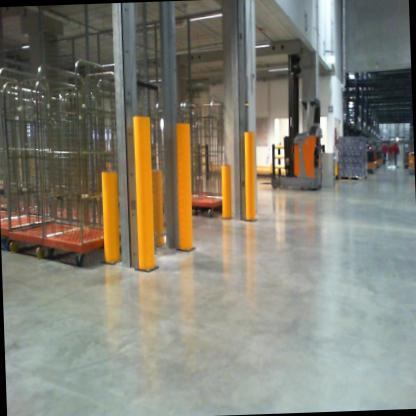forklift: (266, 50, 326, 197)
